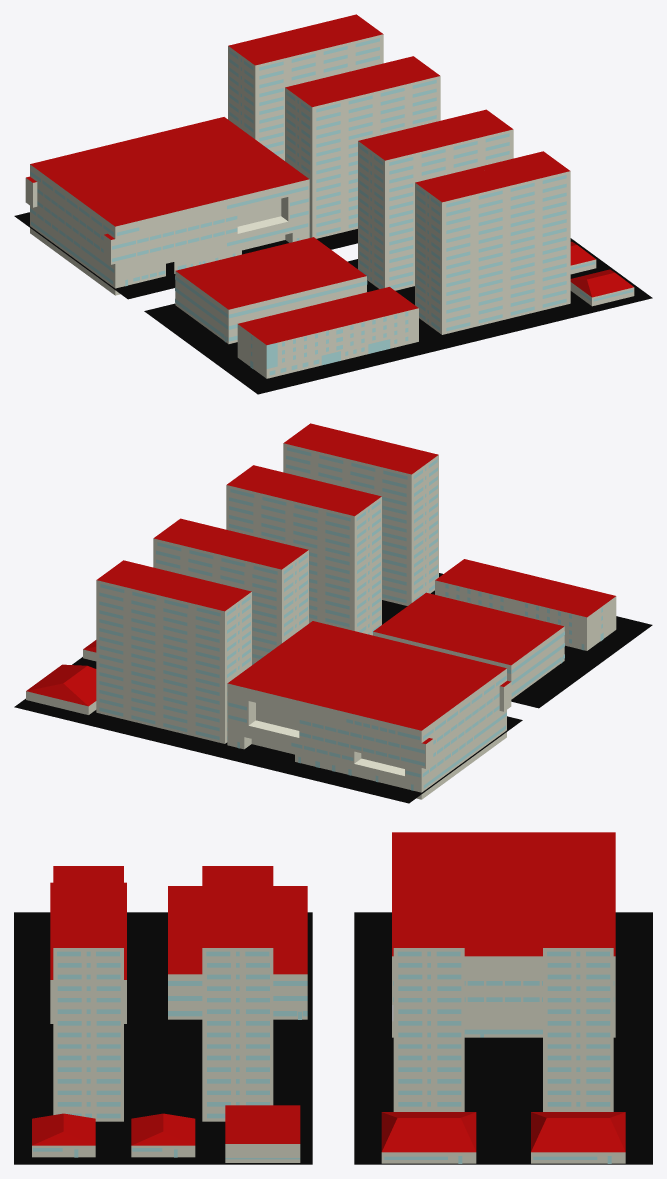
3 renders of one model, top to bottom at view 1: azimuth 30°, elevation 25°; view 2: azimuth 150°, elevation 25°; view 3: azimuth 270°, elevation 25°, orthographic. The views are drawn at different scales.
Visible parts, largest first — view 1: Walls, Roofs, Windows, Ground; view 2: Walls, Roofs, Windows, Ground; view 3: Roofs, Ground, Walls, Windows.
Part boxes in pixels (x1,y1,x2,y2): Walls: (25,34,634,378); Roofs: (26,14,633,344); Windows: (30,38,633,375); Ground: (14,212,652,394); Walls: (26,443,616,799); Roofs: (26,423,615,743); Windows: (99,447,603,790); Ground: (14,573,652,803); Roofs: (32,832,625,1152); Ground: (14,912,652,1164); Walls: (32,948,625,1163); Windows: (33,951,614,1163).
Size of the model in its own units: 143 by 48.16 by 152.
